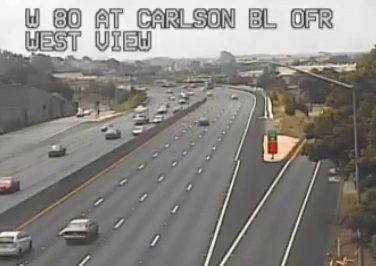car: (1, 231, 32, 257), (63, 220, 98, 240)
